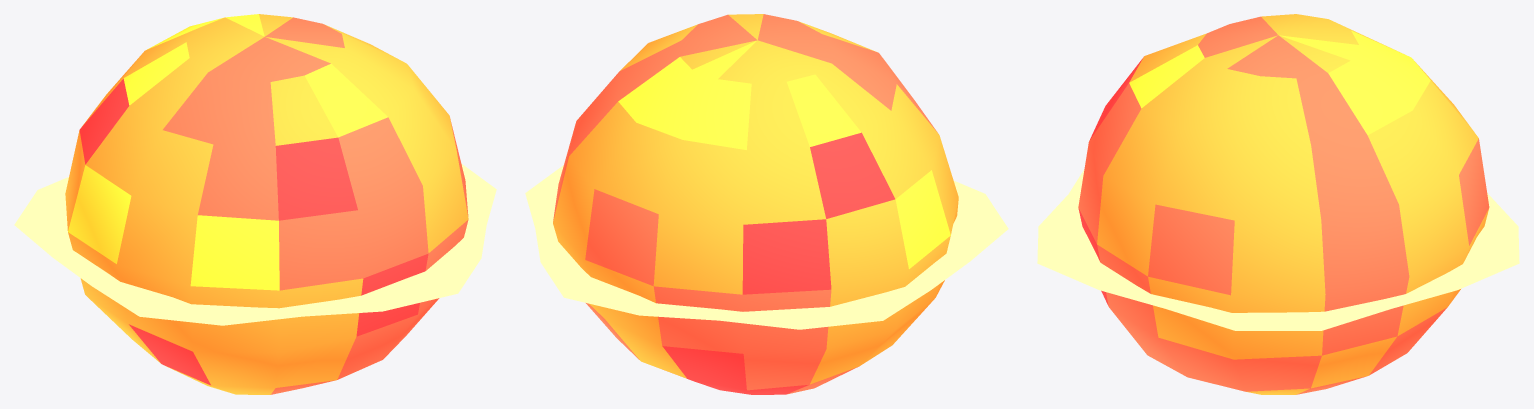
File: red_giant.glb
3 renders of one model, left to right at view 1: azimuth 30°, elevation 25°; view 2: azimuth 150°, elevation 25°; view 3: azimuth 270°, elevation 25°, orthographic.
Visible parts, largest first — view 1: body; view 2: body; view 3: body.
Boxes of the visible parts, x1,y1,x2,y2 form: body: [14, 14, 496, 394]; body: [525, 14, 1008, 394]; body: [1037, 14, 1519, 394].
Bounding box in the file's own units: 196 × 157 × 200.
